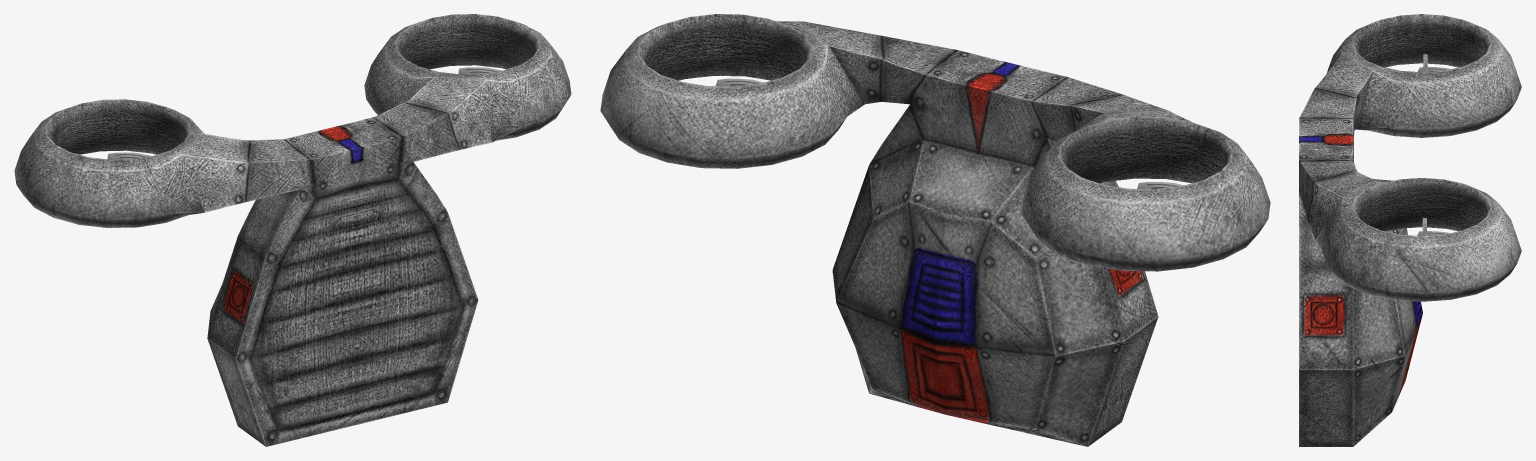
The model's file is BACK_CHIBI_CHROME_JETPACK.fbx.
3 renders of one model, left to right at view 1: azimuth 30°, elevation 25°; view 2: azimuth 150°, elevation 25°; view 3: azimuth 270°, elevation 25°, orthographic. The views are drawn at different scales.
Parts seen in each view (by area): view 1: BACK_CHIBI_DRONE_JETPACK; view 2: BACK_CHIBI_DRONE_JETPACK; view 3: BACK_CHIBI_DRONE_JETPACK.
Part boxes in pixels (box(x1,y1,x2,y2)): BACK_CHIBI_DRONE_JETPACK: box(14, 14, 571, 446); BACK_CHIBI_DRONE_JETPACK: box(600, 14, 1270, 446); BACK_CHIBI_DRONE_JETPACK: box(1299, 14, 1521, 446).
Size of the model in its own units: 0.0712 by 0.0374 by 0.027.
